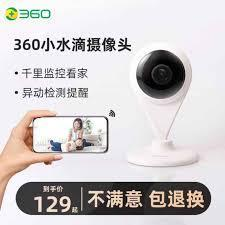maru: (125, 40, 203, 174)
